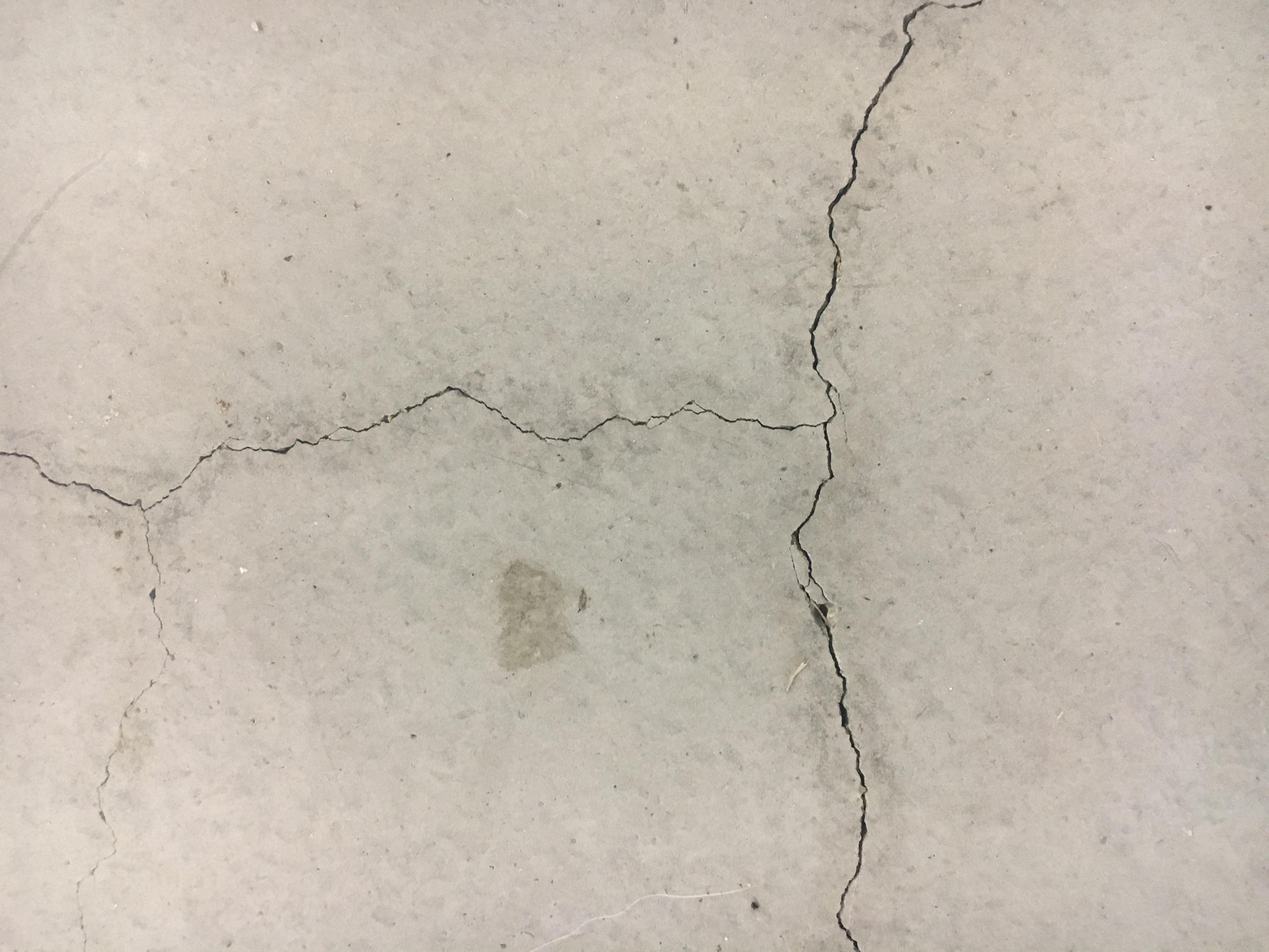Structural-Crack: (3, 2, 979, 948)
